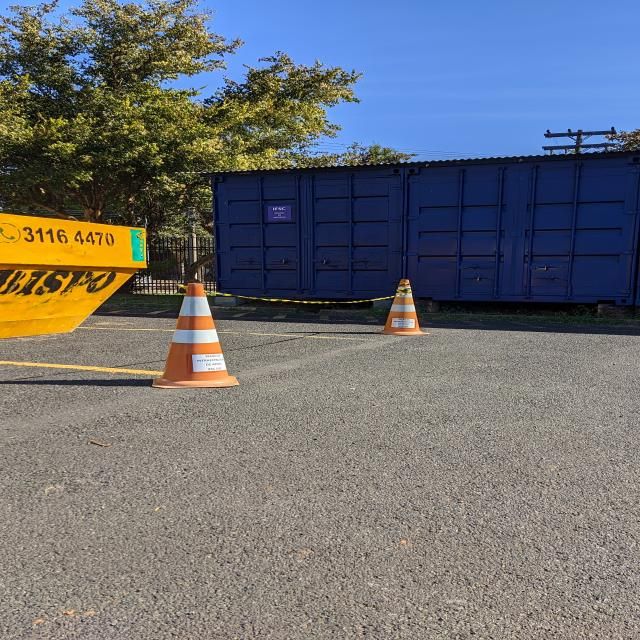cone: (145, 280, 243, 390), (376, 278, 427, 336)
